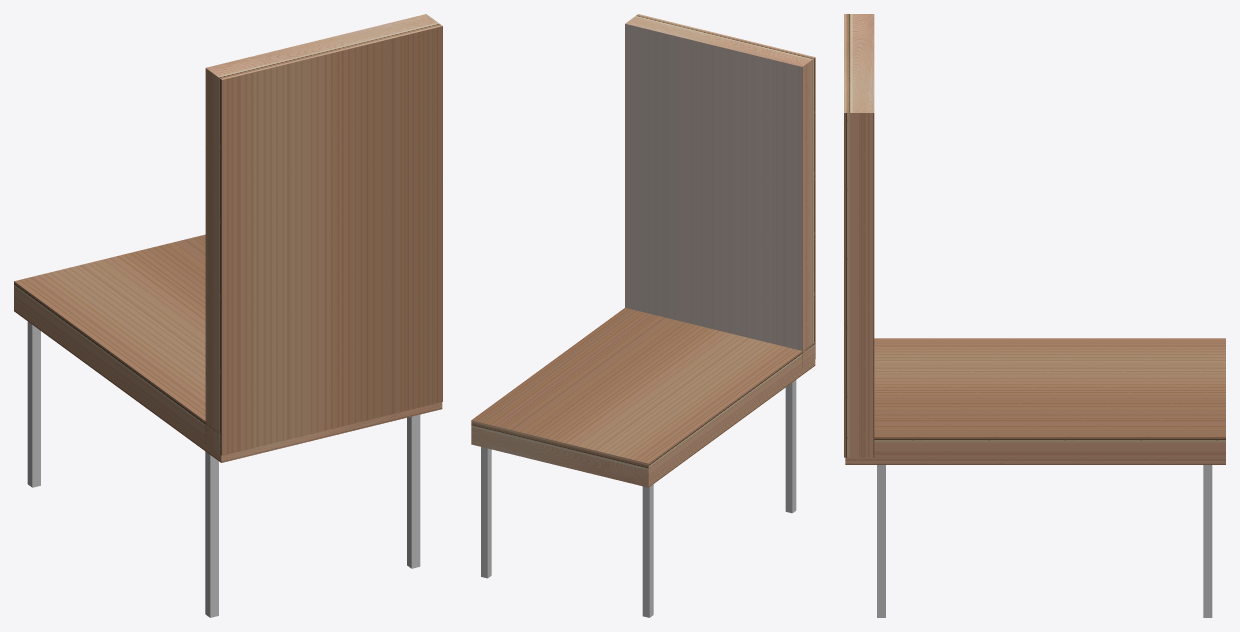
The model's file is chair2.fbx.
The picture shows the model from 3 angles, left to right: view 1: azimuth 30°, elevation 25°; view 2: azimuth 150°, elevation 25°; view 3: azimuth 270°, elevation 25°; orthographic projection. The views are drawn at different scales.
Visible parts, largest first — view 1: Chair_Back, Chair_Seat, Chair_Leg_BackRight, Chair_Leg_FrontRight, Chair_Leg_BackLeft; view 2: Chair_Back, Chair_Seat, Chair_Leg_FrontRight, Chair_Leg_BackRight, Chair_Leg_FrontLeft; view 3: Chair_Seat, Chair_Back, Chair_Leg_FrontLeft, Chair_Leg_BackLeft.
Boxes of the visible parts, left/top/right/bottom form: Chair_Back: left=205, top=14, right=442, bottom=455; Chair_Seat: left=14, top=234, right=442, bottom=462; Chair_Leg_BackRight: left=205, top=451, right=218, bottom=617; Chair_Leg_FrontRight: left=27, top=321, right=40, bottom=487; Chair_Leg_BackLeft: left=407, top=414, right=420, bottom=568; Chair_Back: left=625, top=14, right=815, bottom=368; Chair_Seat: left=471, top=308, right=815, bottom=487; Chair_Leg_FrontRight: left=642, top=484, right=653, bottom=617; Chair_Leg_BackRight: left=785, top=380, right=796, bottom=513; Chair_Leg_FrontLeft: left=481, top=447, right=491, bottom=578; Chair_Seat: left=845, top=338, right=1225, bottom=464; Chair_Back: left=844, top=14, right=874, bottom=457; Chair_Leg_FrontLeft: left=1203, top=465, right=1212, bottom=617; Chair_Leg_BackLeft: left=877, top=465, right=885, bottom=617.
Size of the model in its own units: 16.3 by 38.98 by 26.6.
